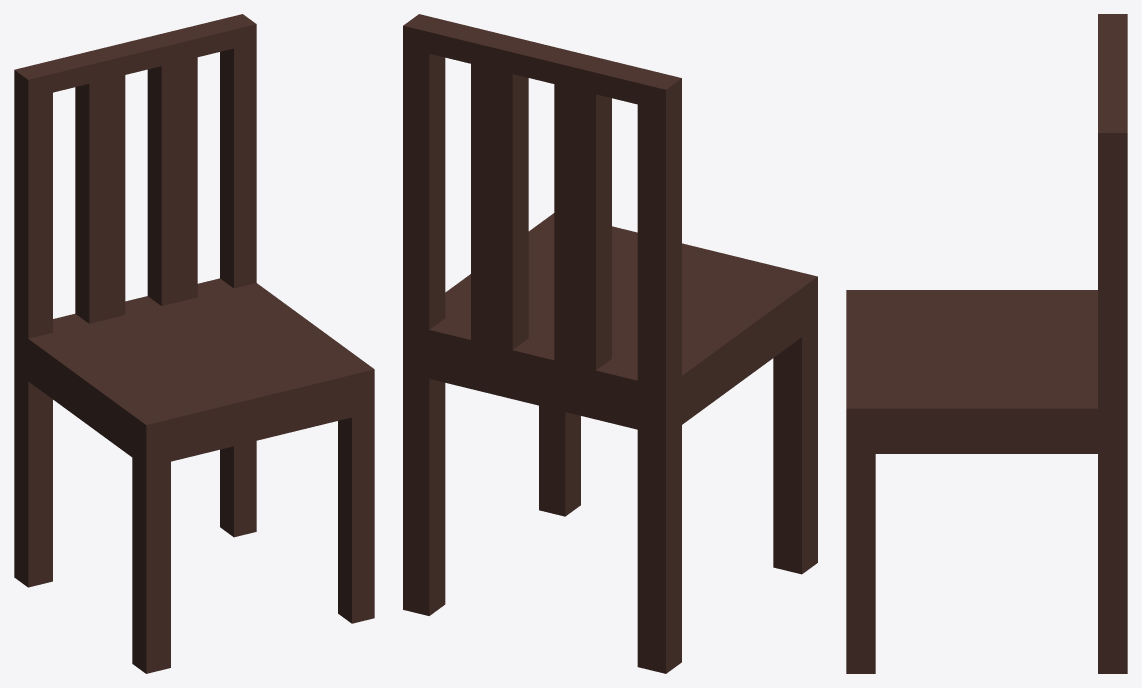
File: dining_chair.fbx
3 views of the same model, side by side, from view 1: azimuth 30°, elevation 25°; view 2: azimuth 150°, elevation 25°; view 3: azimuth 270°, elevation 25° (orthographic). The views are drawn at different scales.
Visible parts, largest first — view 1: Cube; view 2: Cube; view 3: Cube.
Boxes of the visible parts, bbox=[...] form: Cube: bbox=[14, 14, 374, 673]; Cube: bbox=[403, 14, 817, 673]; Cube: bbox=[846, 14, 1127, 673].
Size of the model in its own units: 289 by 614 by 289.
